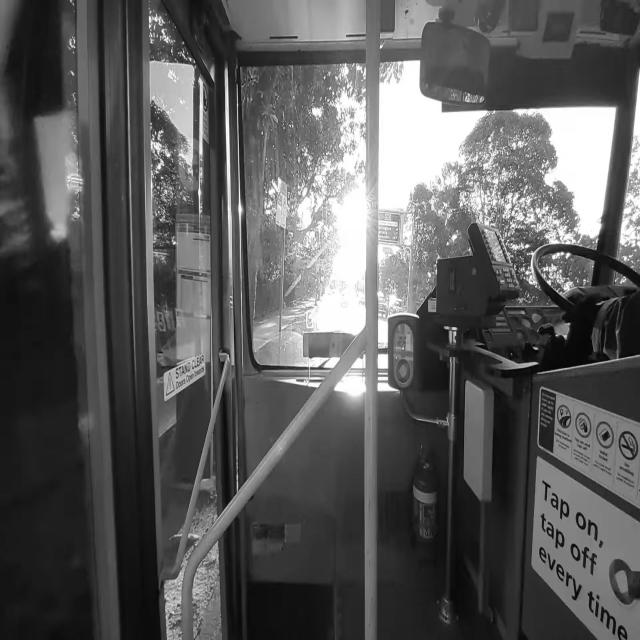bus-door: (35, 0, 246, 640)
